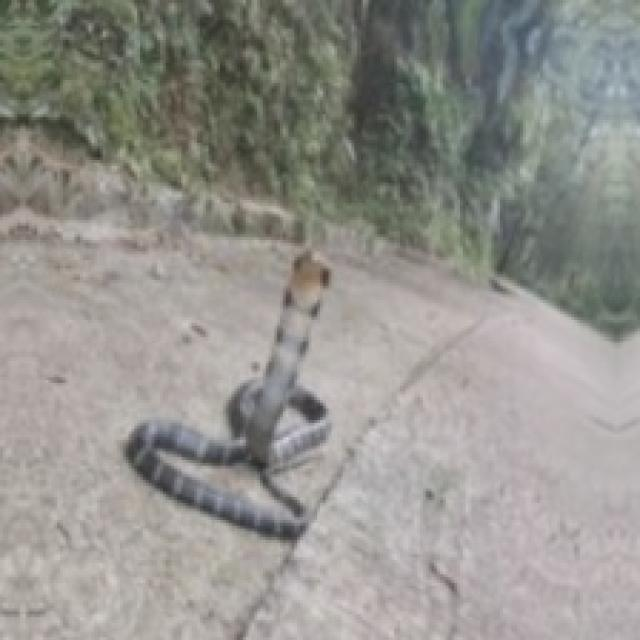king cobra: (126, 251, 329, 537)
